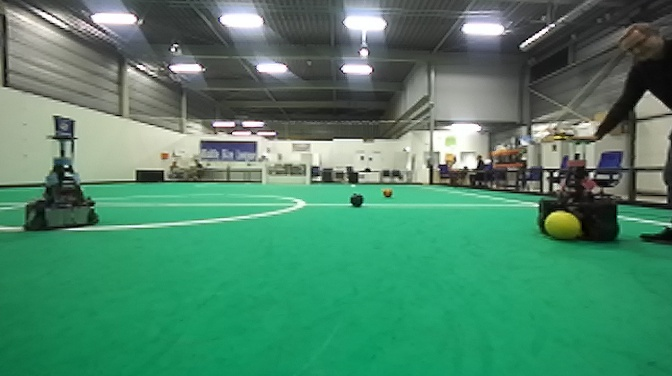ball: (543, 208, 584, 243), (348, 191, 367, 210), (381, 186, 395, 200)
goal: (261, 161, 313, 187)
goalpost: (304, 162, 313, 187), (261, 163, 268, 187)
human_part: (573, 18, 672, 246)
robot: (536, 135, 623, 246), (22, 134, 102, 234)
